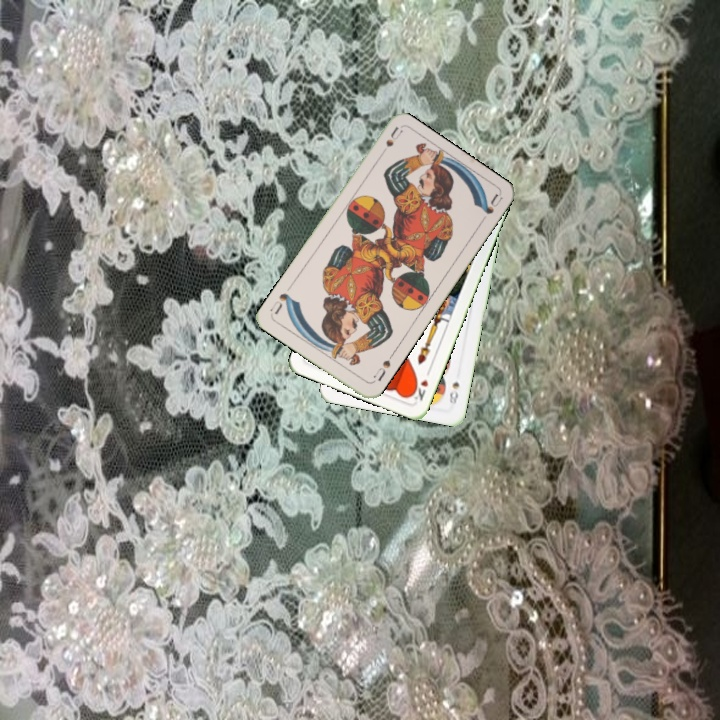HK: (407, 365, 433, 403)
S8: (445, 378, 462, 407)
SU: (369, 349, 396, 384), (381, 124, 405, 150)
